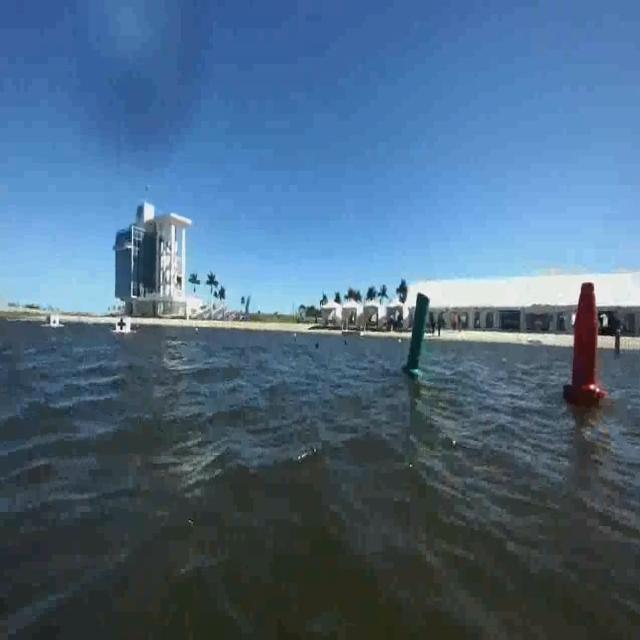green-column-buoy: (404, 291, 434, 378)
red-column-buoy: (565, 279, 608, 406)
